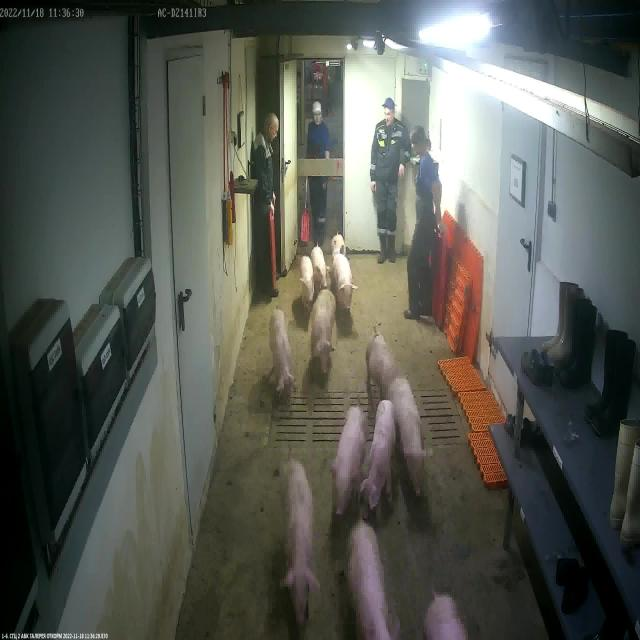pig: (348, 524, 398, 640), (283, 461, 316, 626), (392, 379, 432, 496), (360, 400, 393, 511), (331, 408, 363, 514), (313, 290, 336, 384), (425, 595, 471, 640), (269, 310, 292, 394), (368, 336, 394, 400), (332, 254, 358, 310), (312, 244, 330, 287), (300, 256, 312, 302), (332, 235, 345, 257)
